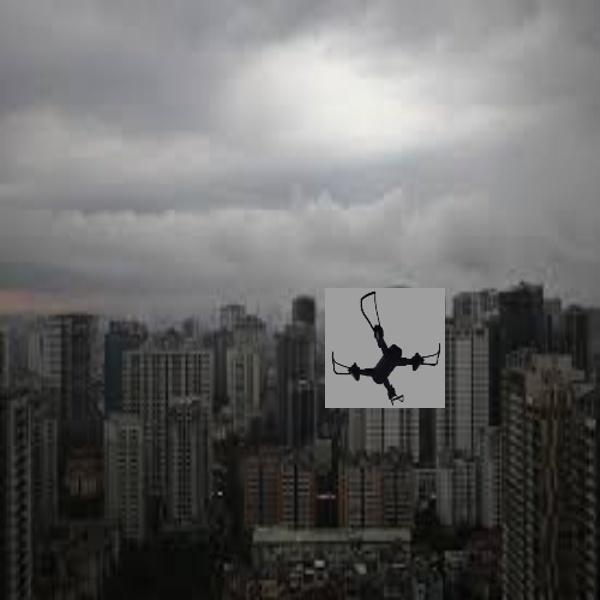drone: (329, 290, 447, 404)
